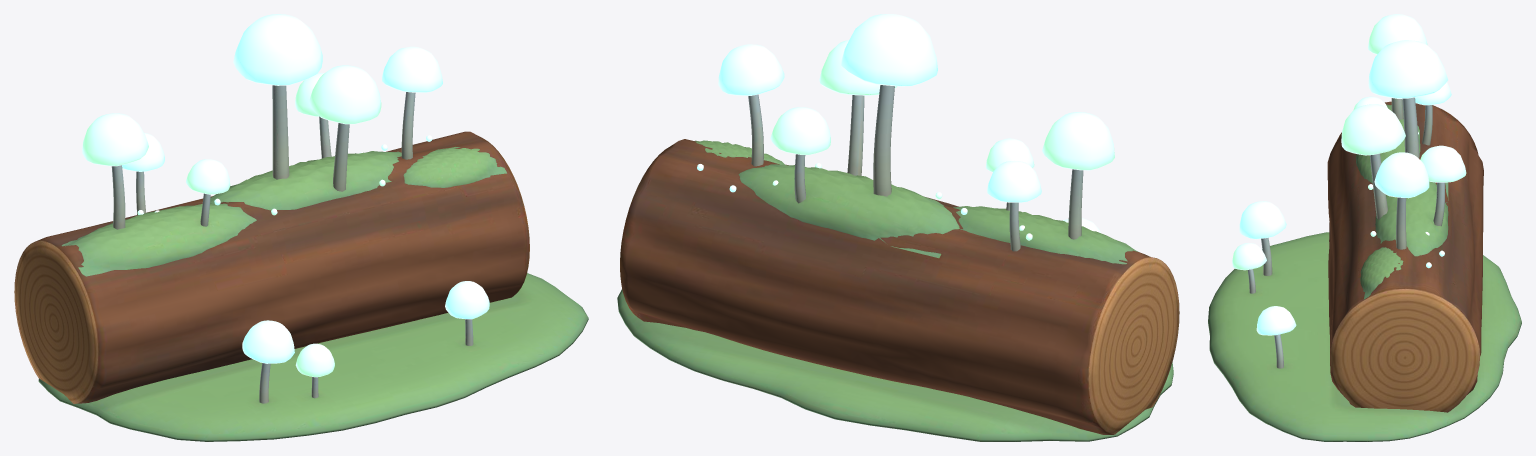
The model's file is tronco_setas.glb.
3 views of the same model, side by side, from view 1: azimuth 30°, elevation 25°; view 2: azimuth 150°, elevation 25°; view 3: azimuth 270°, elevation 25° (orthographic). The views are drawn at different scales.
Parts seen in each view (by area): view 1: glowing-mushroom-log_body; view 2: glowing-mushroom-log_body; view 3: glowing-mushroom-log_body.
Part boxes in pixels (x1,y1,x2,y2): glowing-mushroom-log_body: [14, 14, 588, 441]; glowing-mushroom-log_body: [617, 14, 1179, 441]; glowing-mushroom-log_body: [1208, 14, 1521, 441].
Bounding box in the file's own units: 0.4017 × 0.2514 × 0.2508.
3 materials, 1 textured.
